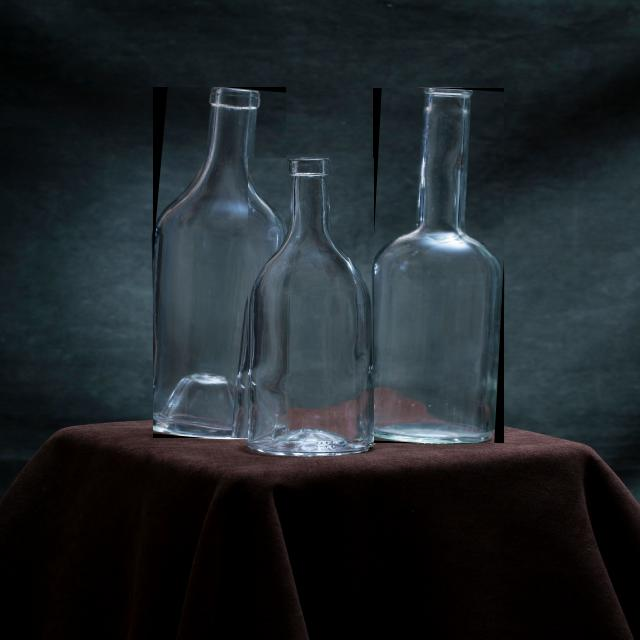Bottle: (152, 88, 284, 437), (373, 89, 502, 442), (247, 159, 373, 456)
